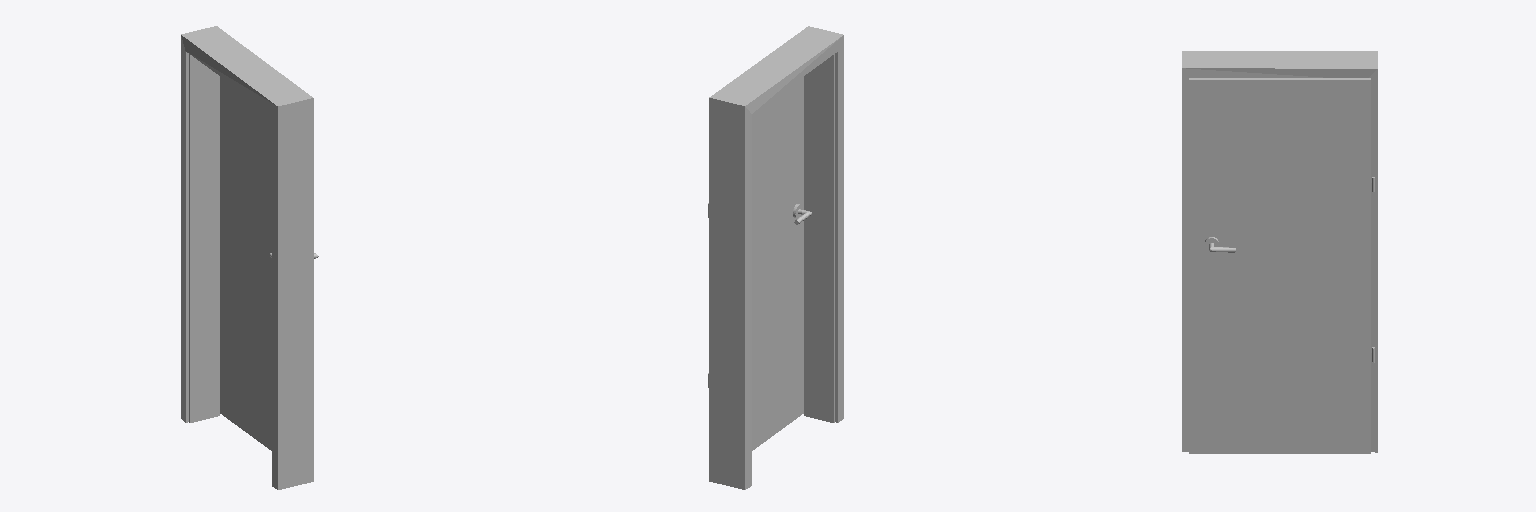
Rendered from door109.obj.
The picture shows the model from 3 angles: view 1: azimuth 30°, elevation 25°; view 2: azimuth 150°, elevation 25°; view 3: azimuth 270°, elevation 25°; orthographic projection.
Visible parts, largest first — view 1: Cylinder.005, Cylinder.001; view 2: Cylinder.005, Cylinder.001; view 3: Cylinder.001, Cylinder.005.
Part boxes in pixels (left/top/right/bottom): Cylinder.005: left=181, top=26, right=313, bottom=489; Cylinder.001: left=220, top=77, right=271, bottom=450; Cylinder.005: left=708, top=26, right=843, bottom=489; Cylinder.001: left=708, top=77, right=803, bottom=450; Cylinder.001: left=1189, top=78, right=1374, bottom=453; Cylinder.005: left=1182, top=51, right=1377, bottom=452.
Size of the model in its own units: 0.3039 by 2.05 by 0.95.